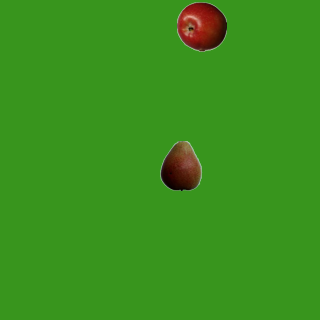Apple Braeburn: (176, 1, 226, 51)
Pear Forelle: (155, 140, 205, 190)
